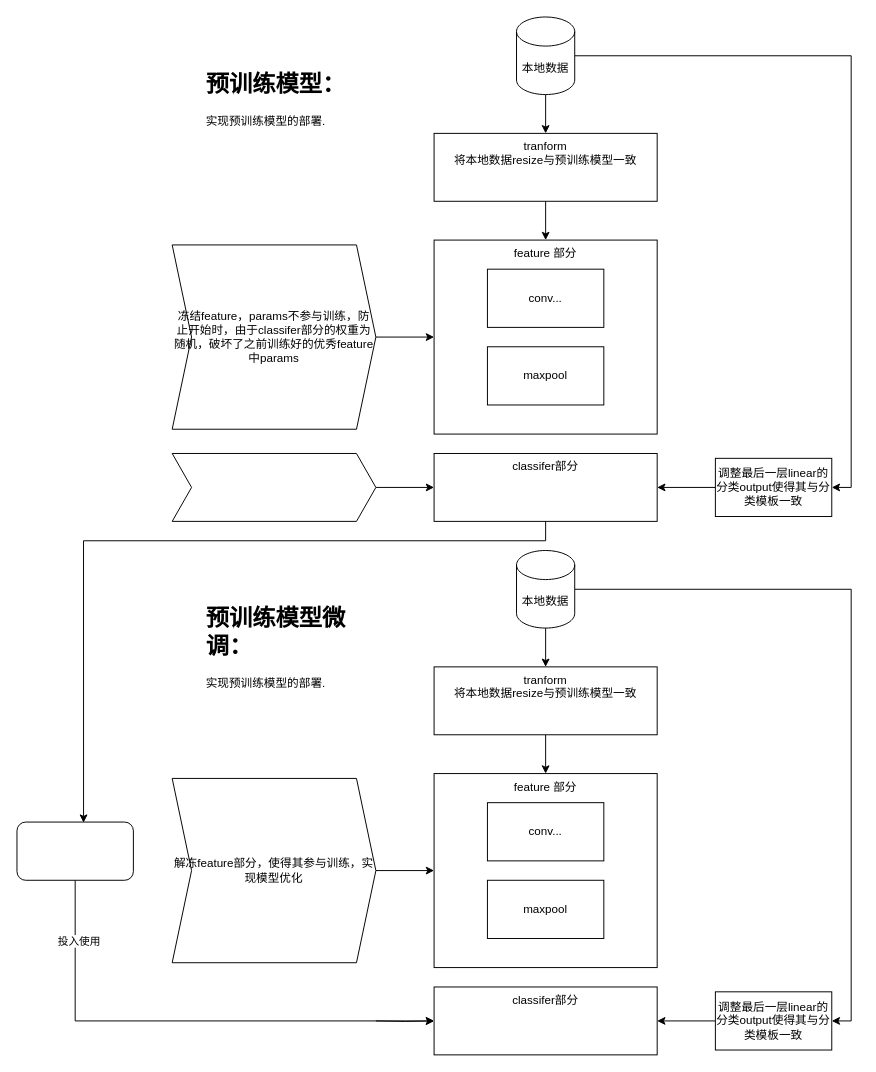
Some shapes in this 876 by 1072 pixel diagram are drawn without their labels. Here are the shapes that lost their labels. From the top down, the box of each, then its label:
(171, 453, 376, 521): 训练classifer部分
(16, 821, 133, 880): 训练完成的classifer部分
